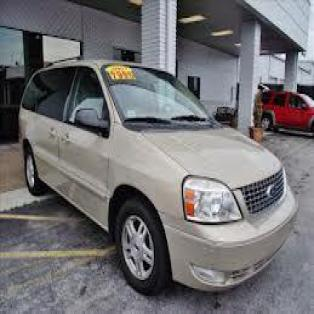Auto: (18, 58, 298, 296)
